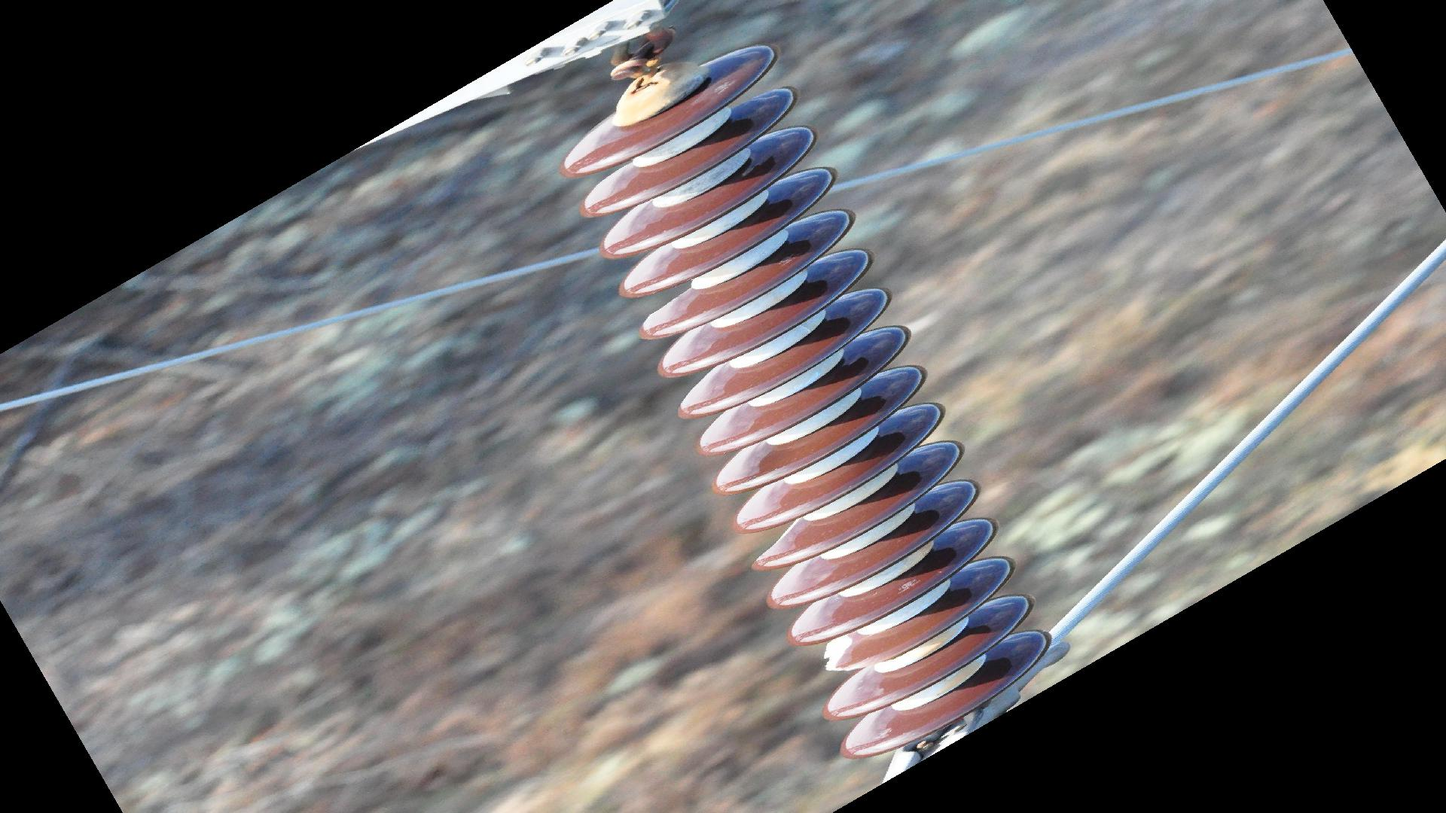insulator: (554, 40, 1061, 767)
insulator_breakage: (818, 629, 863, 678)
